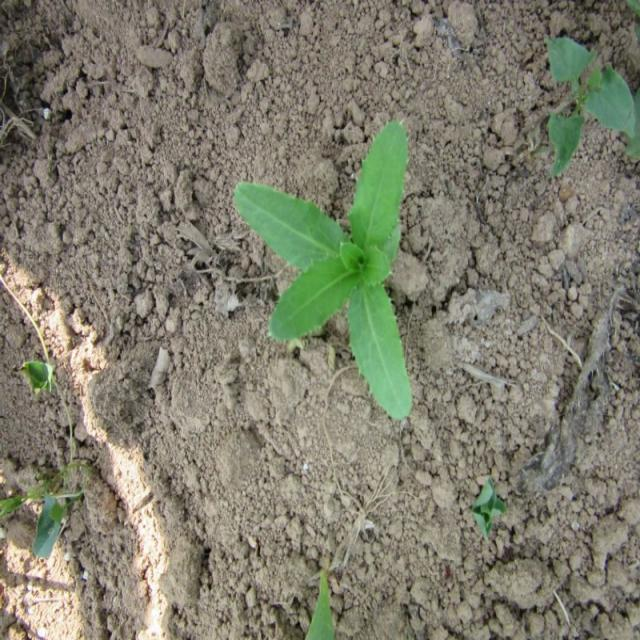cs: (228, 114, 417, 428)
